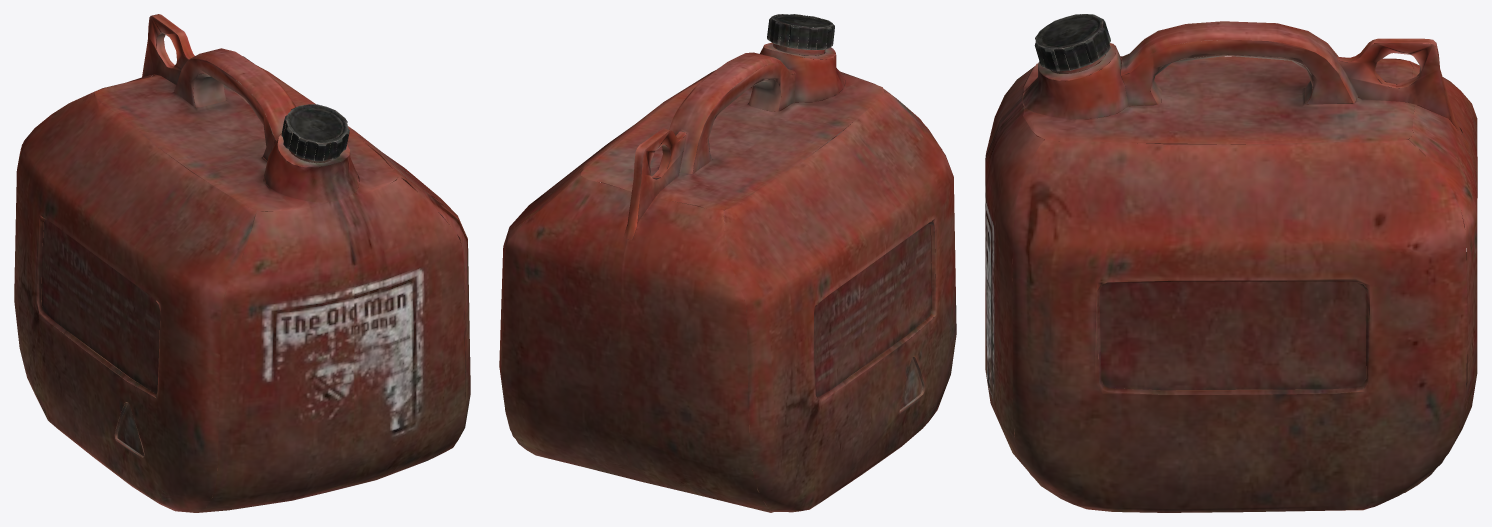
The model's file is plastic_jerrycan.glb.
3 renders of one model, left to right at view 1: azimuth 30°, elevation 25°; view 2: azimuth 150°, elevation 25°; view 3: azimuth 270°, elevation 25°, orthographic. The views are drawn at different scales.
Visible parts, largest first — view 1: plastic_jerrycan; view 2: plastic_jerrycan; view 3: plastic_jerrycan.
Boxes of the visible parts, <box> form: plastic_jerrycan: <box>14,14,470,512</box>; plastic_jerrycan: <box>499,14,956,512</box>; plastic_jerrycan: <box>985,14,1477,512</box>.
Bounding box in the file's own units: 0.2677 × 0.3186 × 0.3399.
Materials: 1 (1 with a texture image).
